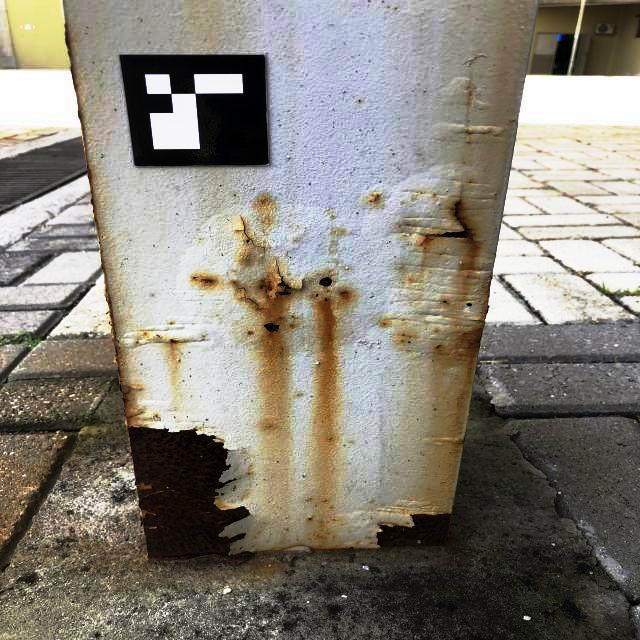Corrosion: (106, 297, 253, 566), (431, 304, 489, 363), (419, 199, 480, 245), (375, 513, 451, 549), (256, 260, 309, 301), (240, 220, 266, 258), (232, 280, 263, 311), (312, 545, 359, 551), (192, 275, 216, 284), (263, 321, 281, 333), (318, 276, 334, 289), (340, 291, 349, 299), (169, 338, 180, 344), (307, 517, 314, 521), (324, 298, 329, 302), (315, 293, 319, 297)
